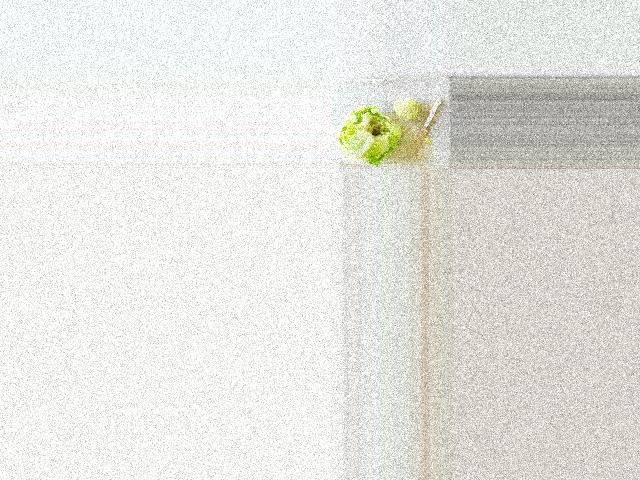lettuce: (332, 106, 395, 163)
